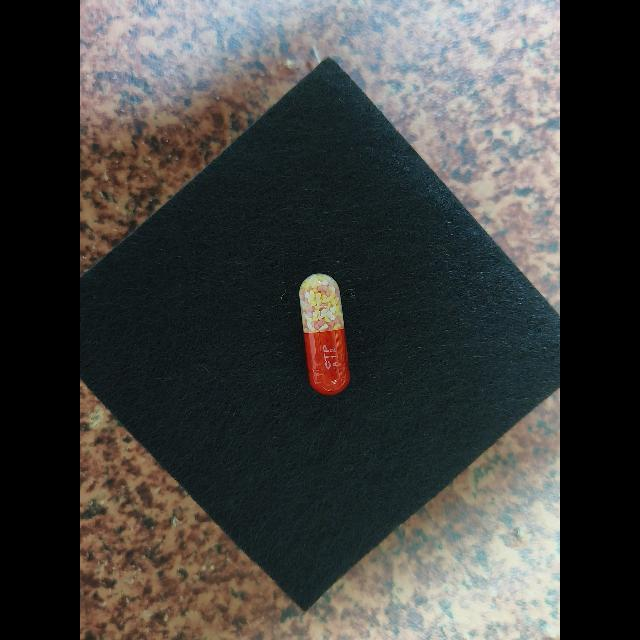Intact Capsule: (299, 274, 350, 395)
